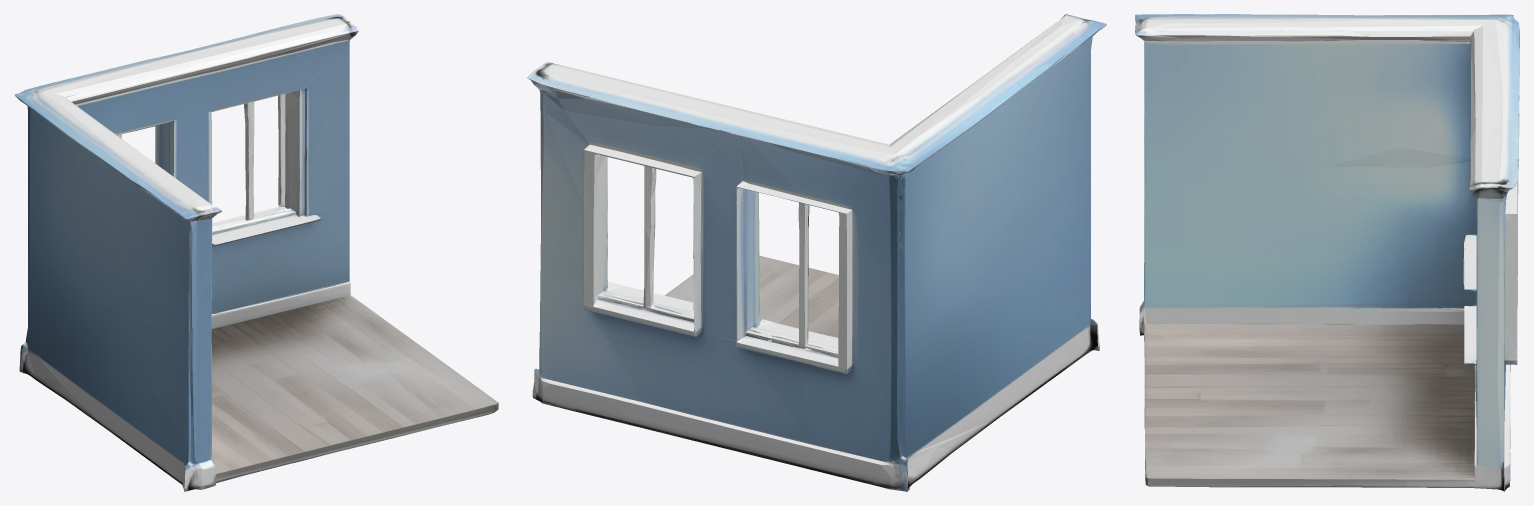
File: base-room-opt.glb
3 renders of one model, left to right at view 1: azimuth 30°, elevation 25°; view 2: azimuth 150°, elevation 25°; view 3: azimuth 270°, elevation 25°, orthographic. The views are drawn at different scales.
Parts seen in each view (by area): view 1: geometry_0; view 2: geometry_0; view 3: geometry_0.
Part boxes in pixels (x1=…): geometry_0: x1=14, y1=14, x2=498, y2=491; geometry_0: x1=527, y1=14, x2=1106, y2=491; geometry_0: x1=1135, y1=14, x2=1519, y2=491.
Size of the model in its own units: 1 by 0.8242 by 0.9292.
Materials: 1 (1 with a texture image).
